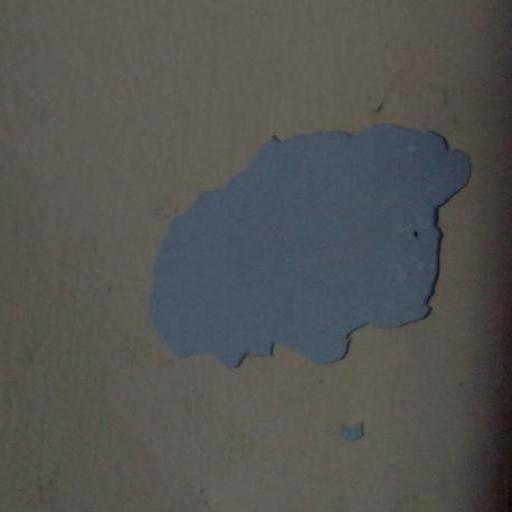peeling: (140, 108, 478, 387), (334, 406, 380, 448)
